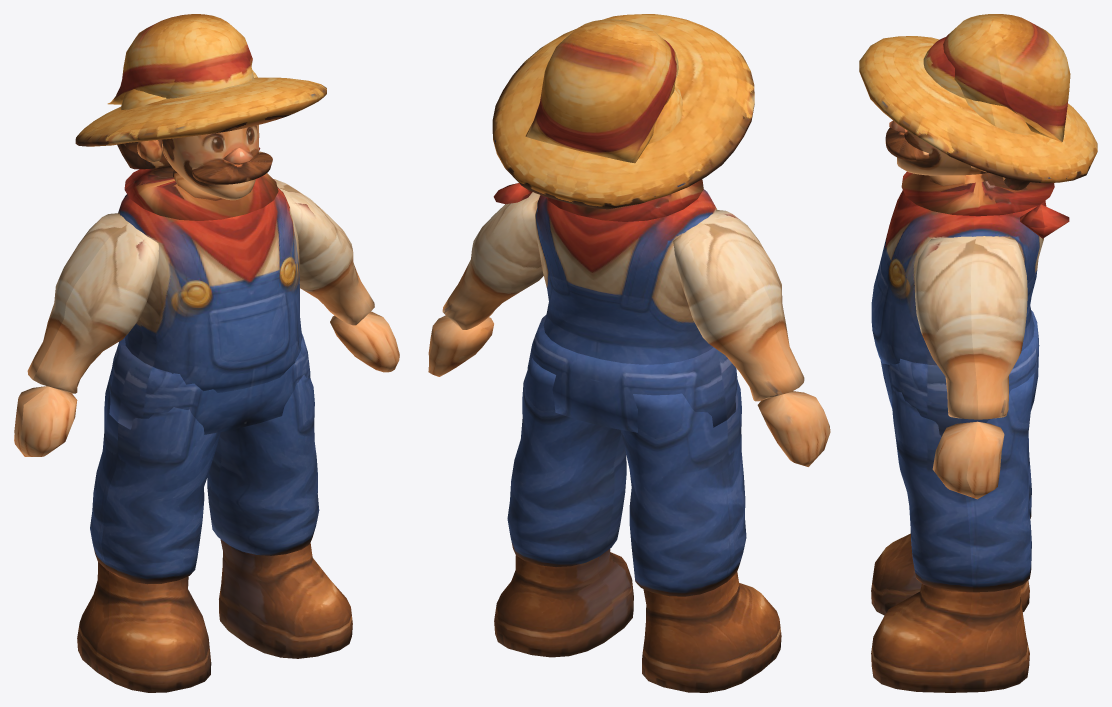
The model's file is bramble.glb.
3 renders of one model, left to right at view 1: azimuth 30°, elevation 25°; view 2: azimuth 150°, elevation 25°; view 3: azimuth 270°, elevation 25°, orthographic. The views are drawn at different scales.
Parts seen in each view (by area): view 1: bramble; view 2: bramble; view 3: bramble.
Part boxes in pixels (<box>): bramble: <box>14,14,399,692</box>; bramble: <box>428,14,830,692</box>; bramble: <box>859,14,1097,692</box>.
Size of the model in its own units: 1.12 by 1.75 by 0.6149.
1 material, 1 textured.
